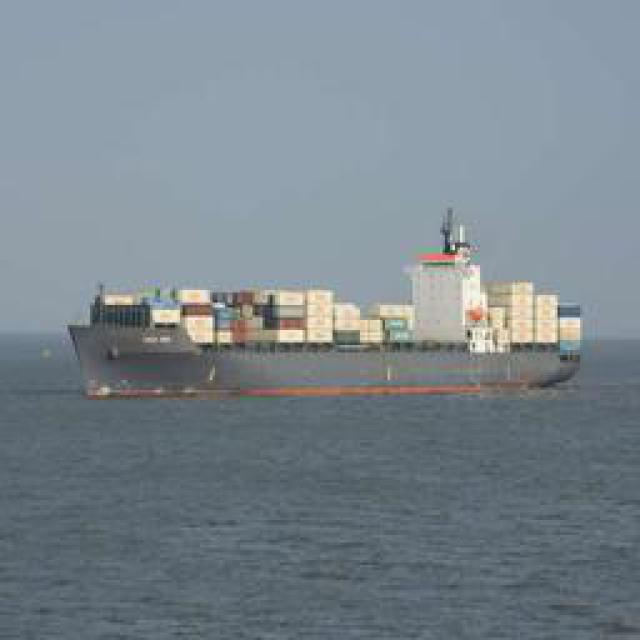Ship: (71, 245, 584, 398)
